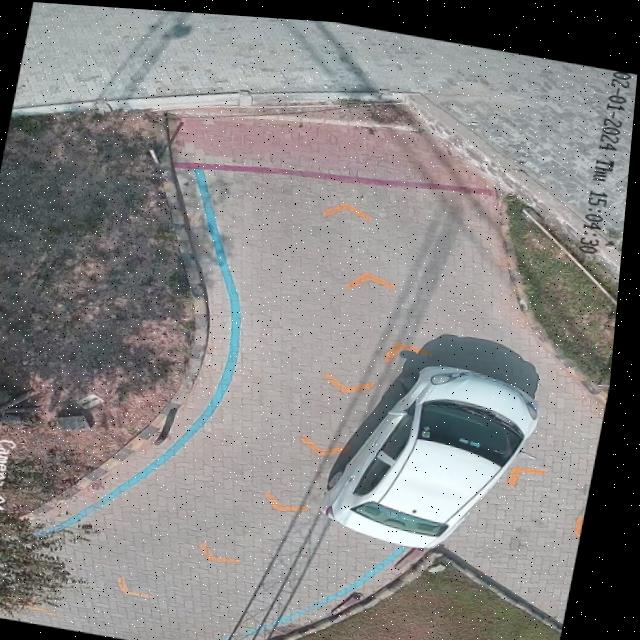car: (331, 359, 544, 541)
